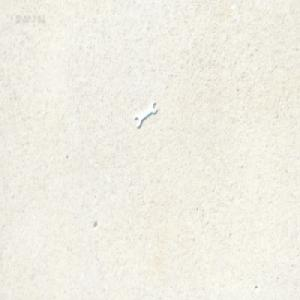Wrench: (134, 101, 156, 128)
